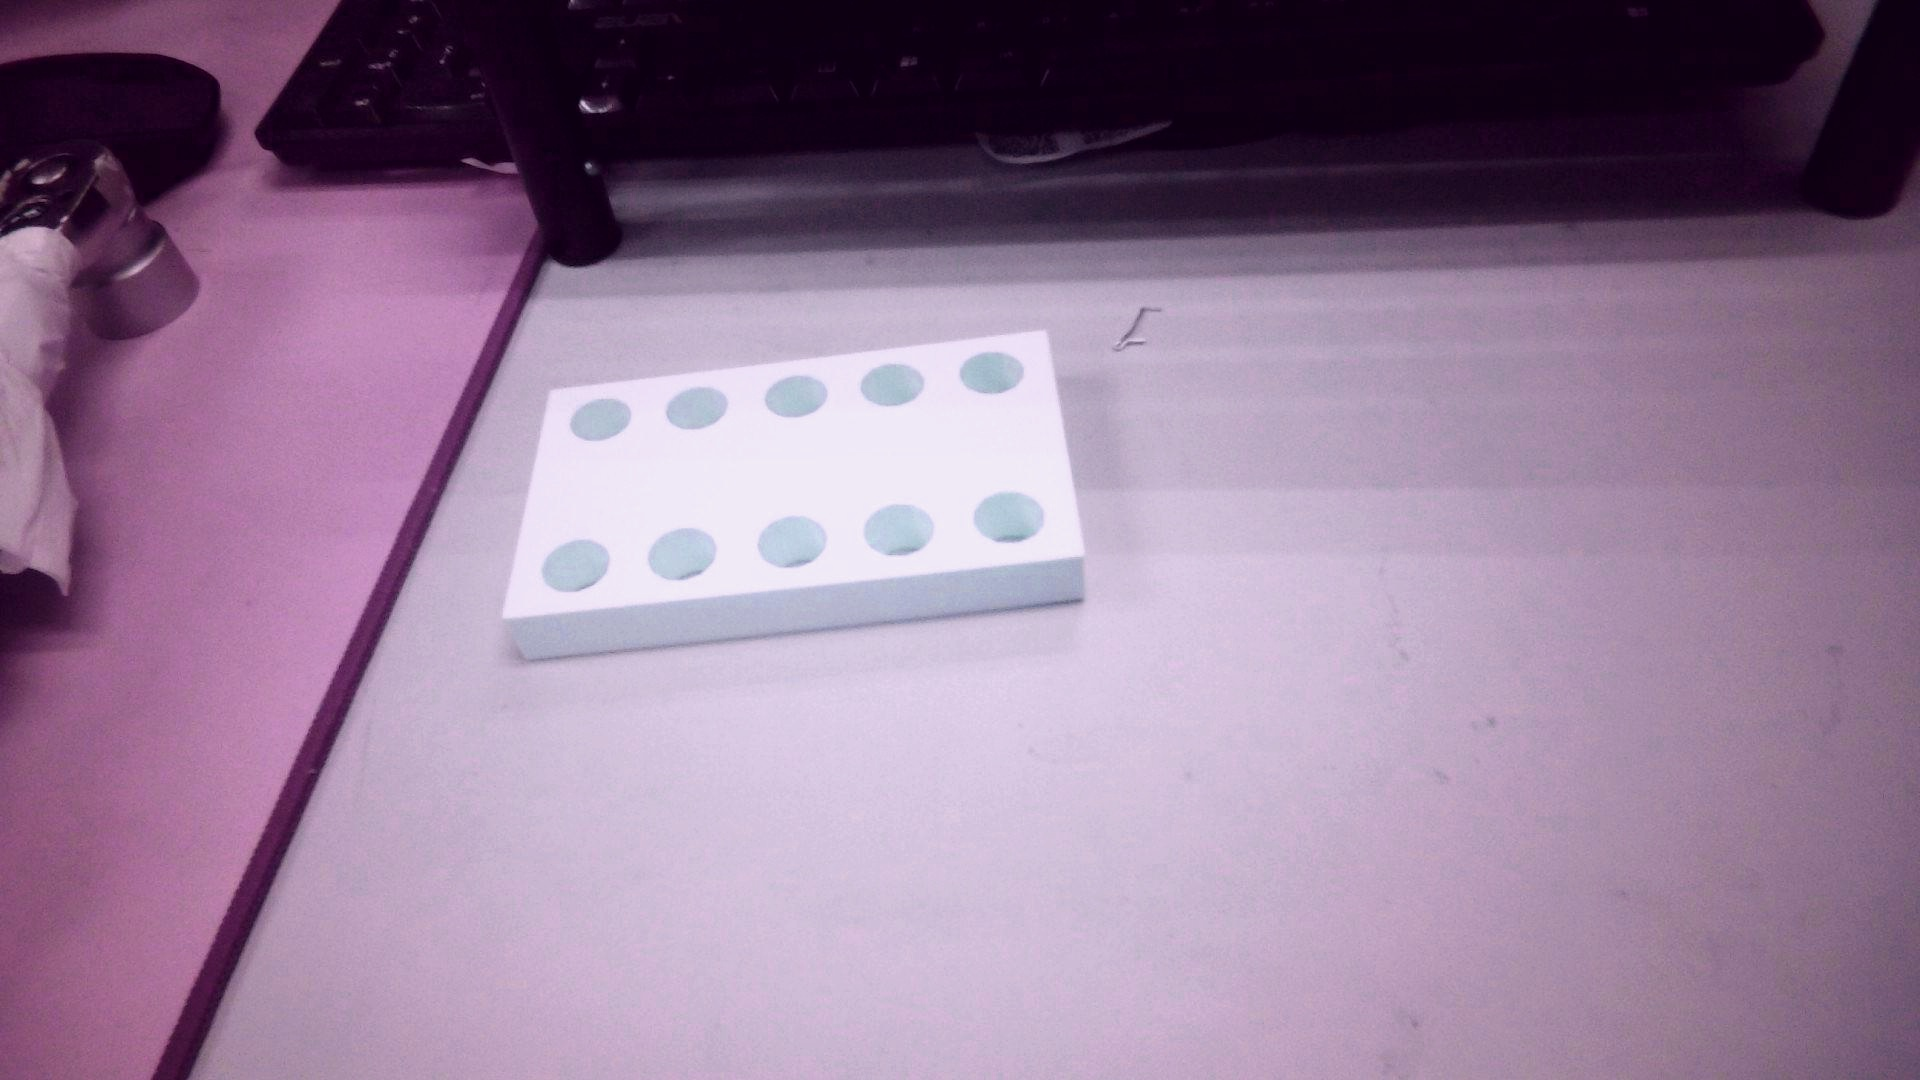hole: (858, 498, 940, 560), (754, 510, 831, 576), (646, 522, 717, 588), (972, 489, 1048, 546), (539, 537, 608, 599), (560, 396, 633, 446), (858, 357, 927, 410), (961, 348, 1029, 398), (761, 365, 825, 415), (665, 384, 731, 429)
obj: (502, 319, 1093, 684)
